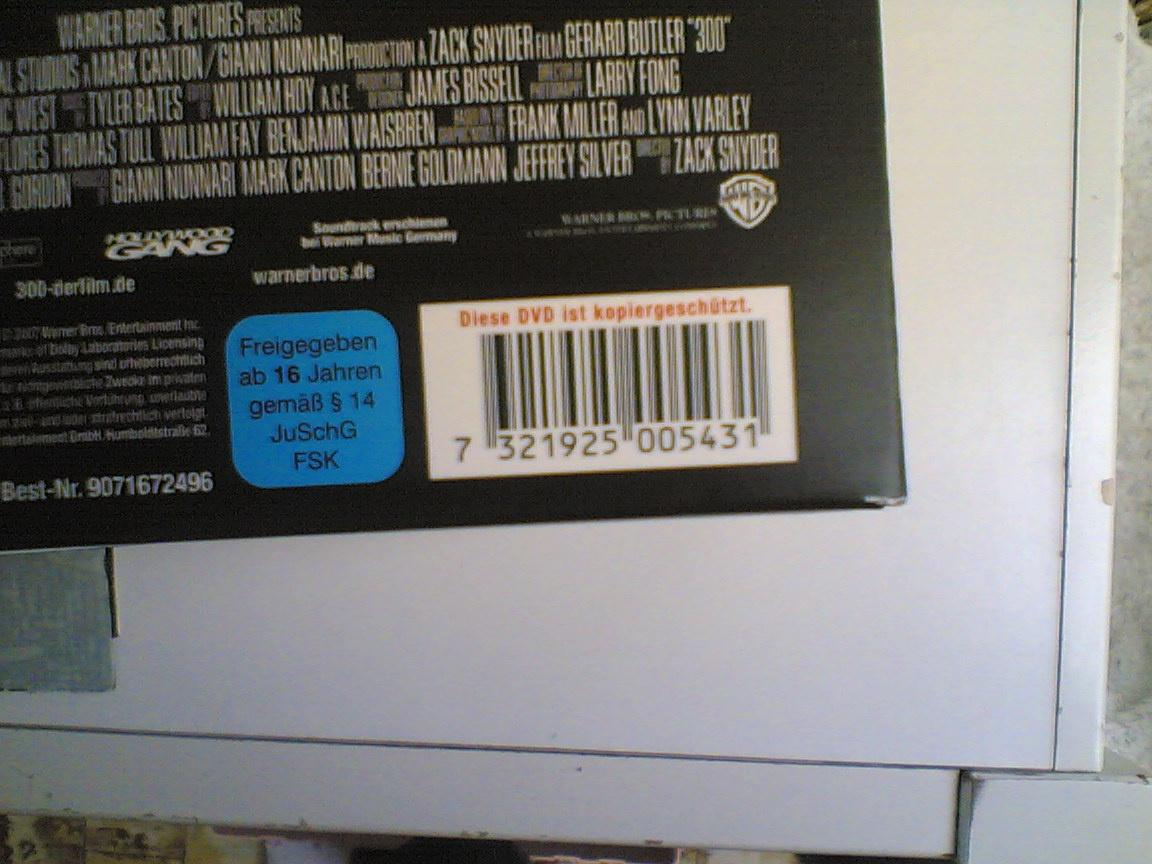Barcode: (416, 284, 800, 478)
